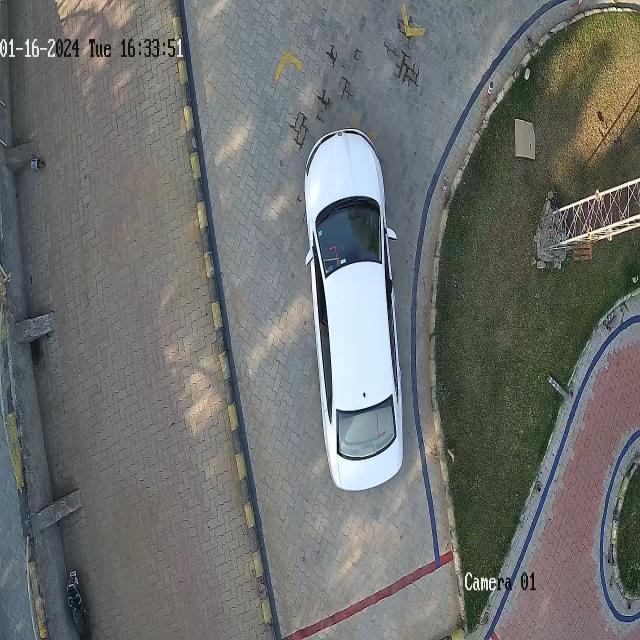car: (304, 129, 402, 491)
